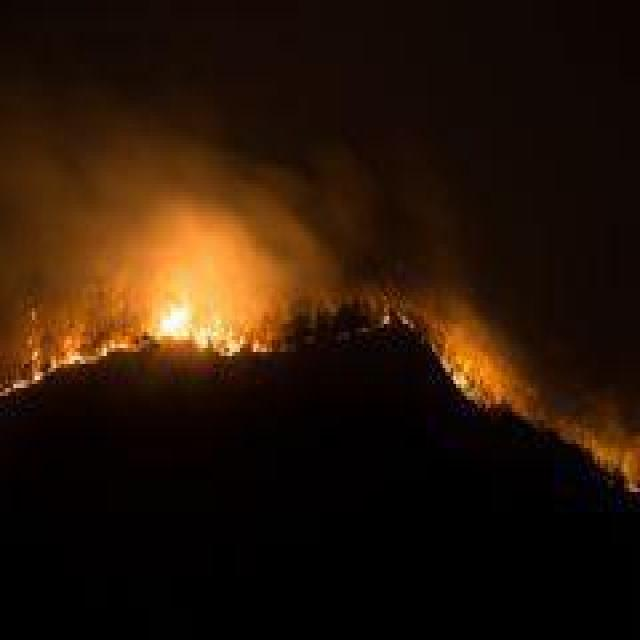fire: (117, 256, 295, 356), (445, 317, 524, 408), (577, 412, 632, 482)
